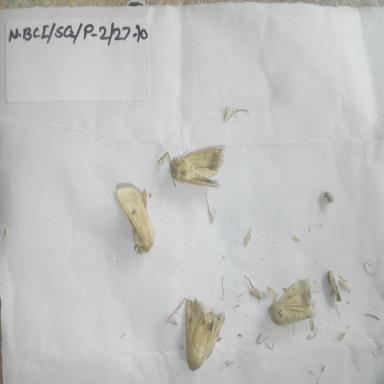abw: (114, 181, 168, 261), (167, 136, 232, 201), (178, 300, 232, 376), (262, 273, 320, 331)
